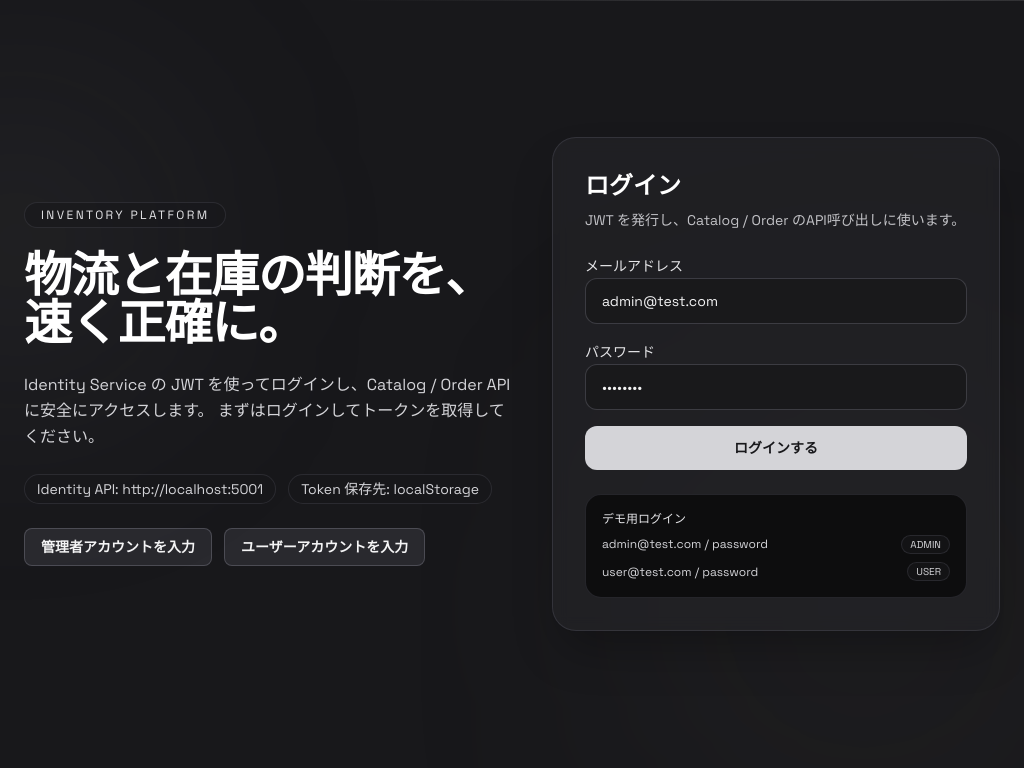
App login › stores JWT and navigates to product list when login succeeds
Click the button "ログインする" at (776, 448), box [585,426,967,470]
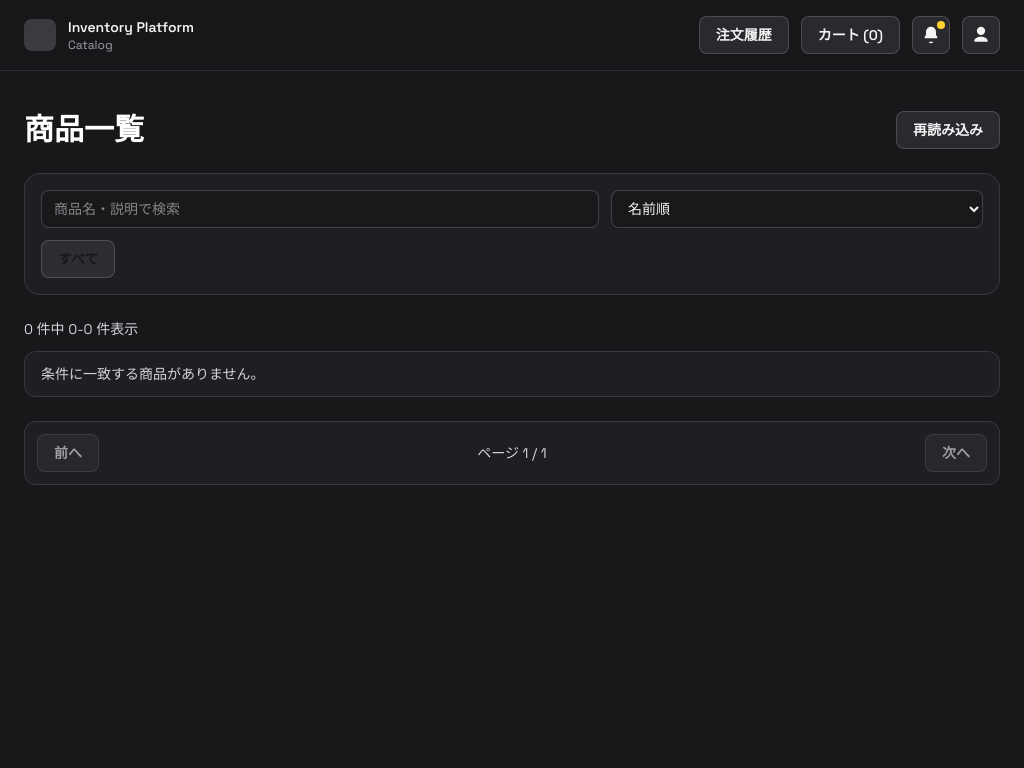
Check: the heading "商品一覧" is shown, box [24,112,144,148]
